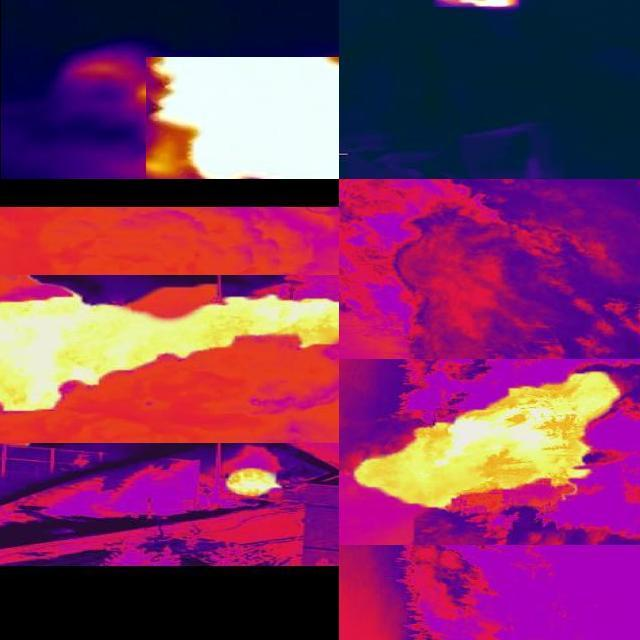fire: (1, 292, 338, 414), (351, 369, 625, 513), (146, 58, 340, 180), (223, 464, 283, 502)
